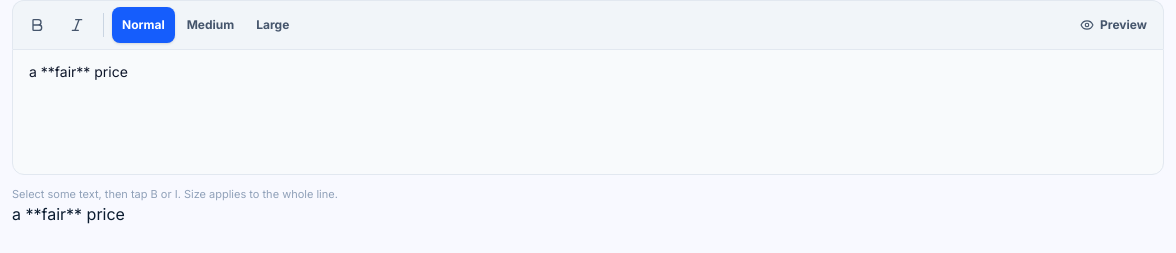
Test: FormattedTextarea › shows the formatted result in preview and the markers again on the way back
Click the button "Preview": (1114, 25) [1070,7,1157,43]
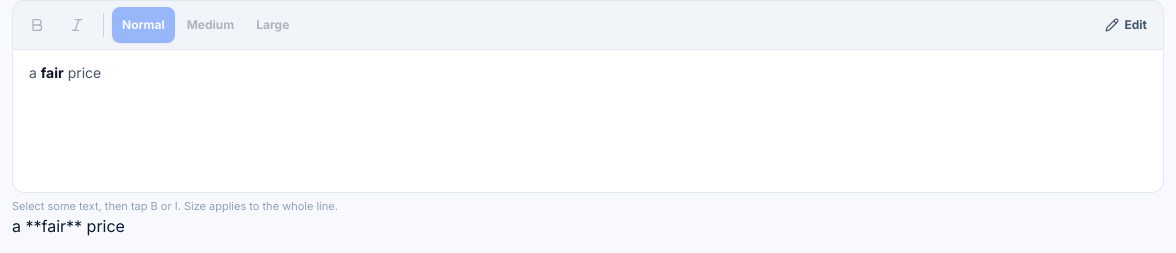
Click the button "Edit": (1126, 25) [1094,7,1157,43]
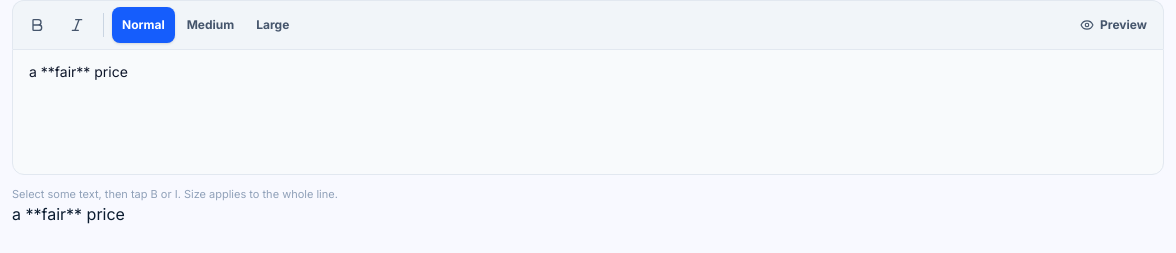
Check: the text box holds "a **fair** price", box [12,49,1164,175]
